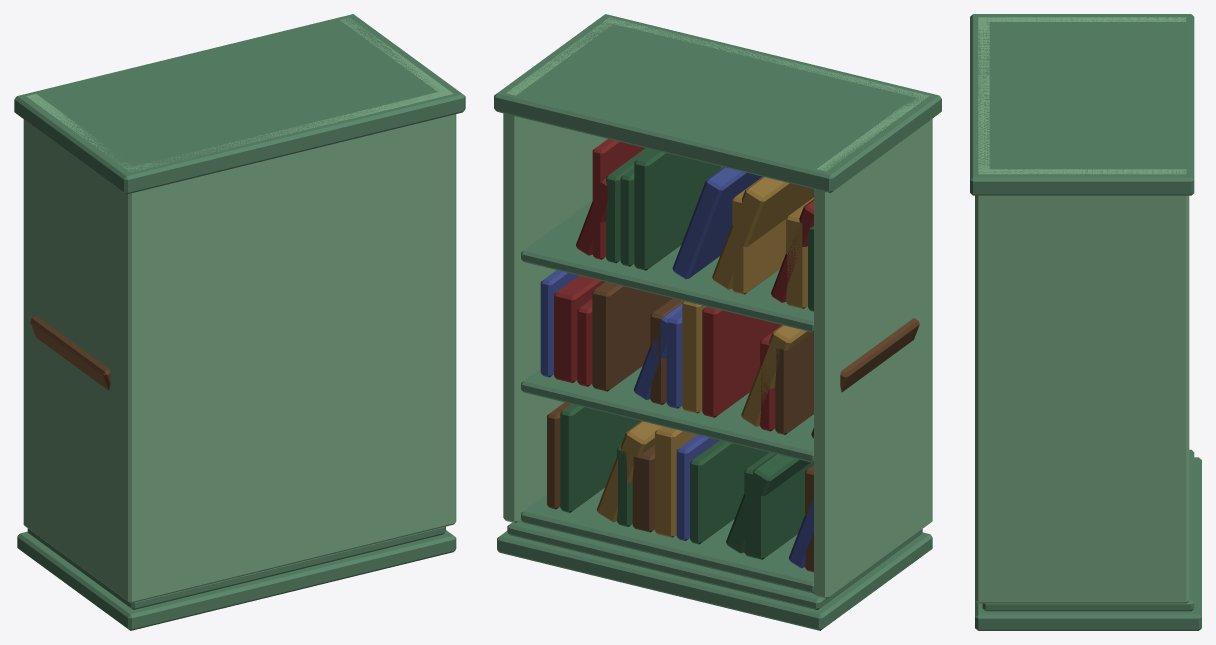
File: green_dungeon_bookcase_v0.glb
3 renders of one model, left to right at view 1: azimuth 30°, elevation 25°; view 2: azimuth 150°, elevation 25°; view 3: azimuth 270°, elevation 25°, orthographic.
Parts seen in each view (by area): view 1: green_dungeon_bookcase_v0; view 2: green_dungeon_bookcase_v0; view 3: green_dungeon_bookcase_v0.
Boxes of the visible parts, x1,y1,x2,y2 form: green_dungeon_bookcase_v0: (14,14,465,630); green_dungeon_bookcase_v0: (494,14,941,630); green_dungeon_bookcase_v0: (970,14,1201,630).
Bounding box in the file's own units: 1.56 × 2 × 0.92.
